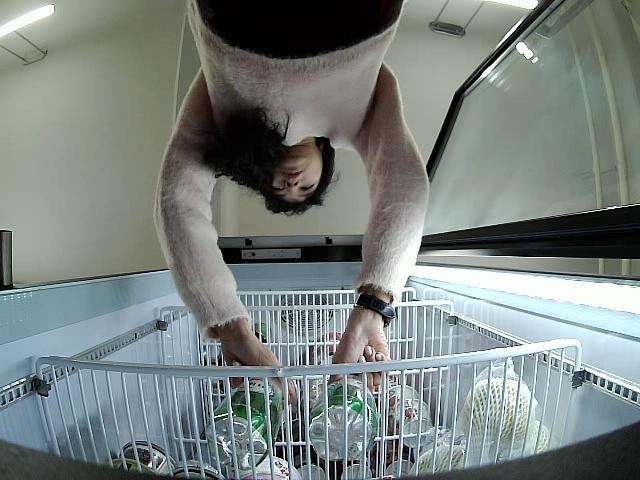18_trevi: (200, 378, 281, 476), (307, 378, 382, 465)
